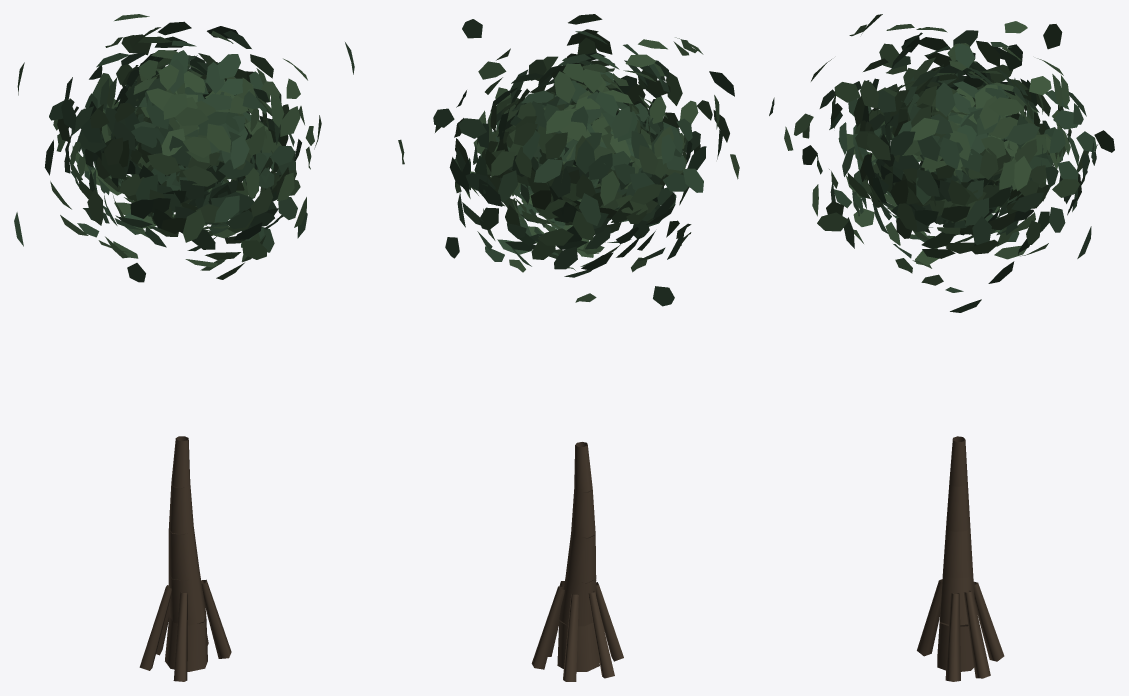
File: cypress_1.glb
The picture shows the model from 3 angles, left to right: view 1: azimuth 30°, elevation 25°; view 2: azimuth 150°, elevation 25°; view 3: azimuth 270°, elevation 25°; orthographic projection.
Parts seen in each view (by area): view 1: cypress_1_LOD0; view 2: cypress_1_LOD0; view 3: cypress_1_LOD0.
Part boxes in pixels (x1=…): cypress_1_LOD0: x1=14, y1=14, x2=404, y2=681; cypress_1_LOD0: x1=433, y1=14, x2=739, y2=681; cypress_1_LOD0: x1=769, y1=14, x2=1114, y2=681.
Size of what is drawn, in the model's own units: 0.6784 by 1.42 by 0.7091.
